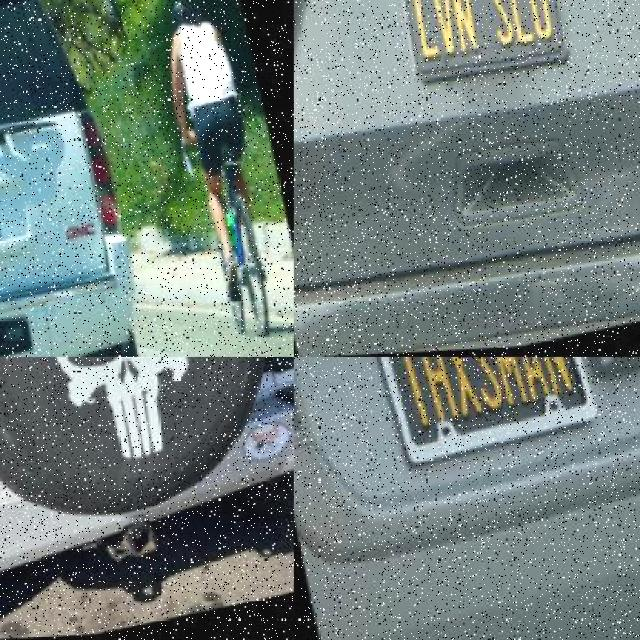licenseplate: (348, 357, 594, 472), (389, 0, 568, 89), (0, 190, 29, 248)
